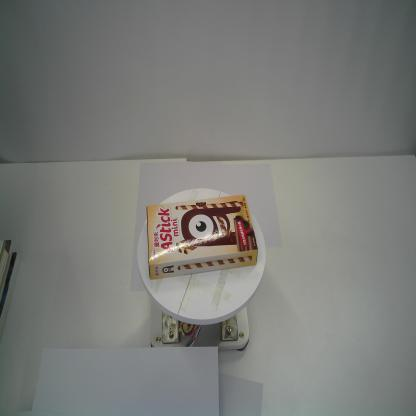Dessert: (146, 192, 260, 283)
